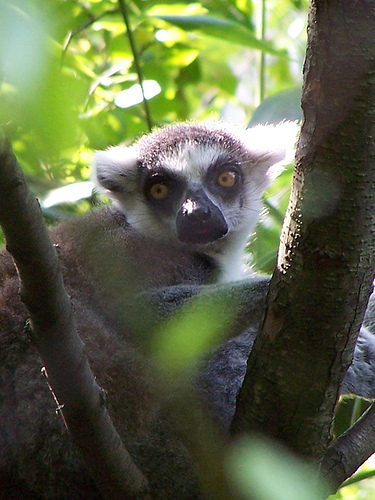cat: (1, 118, 373, 452)
